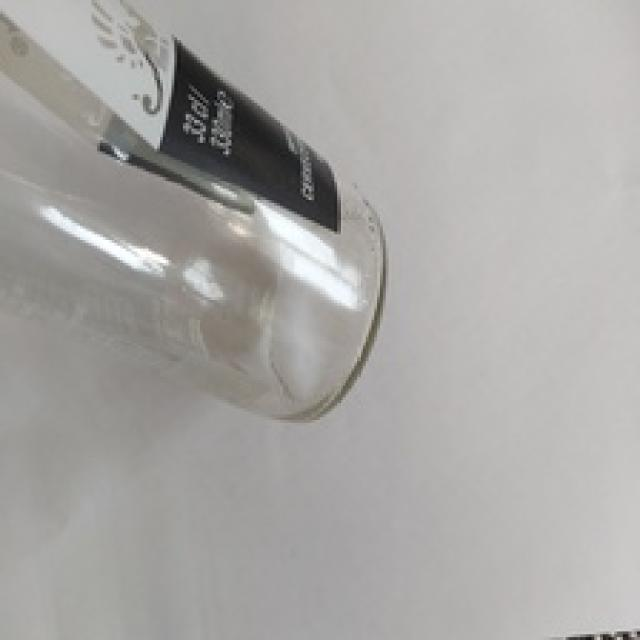Glass: (0, 0, 392, 420)
